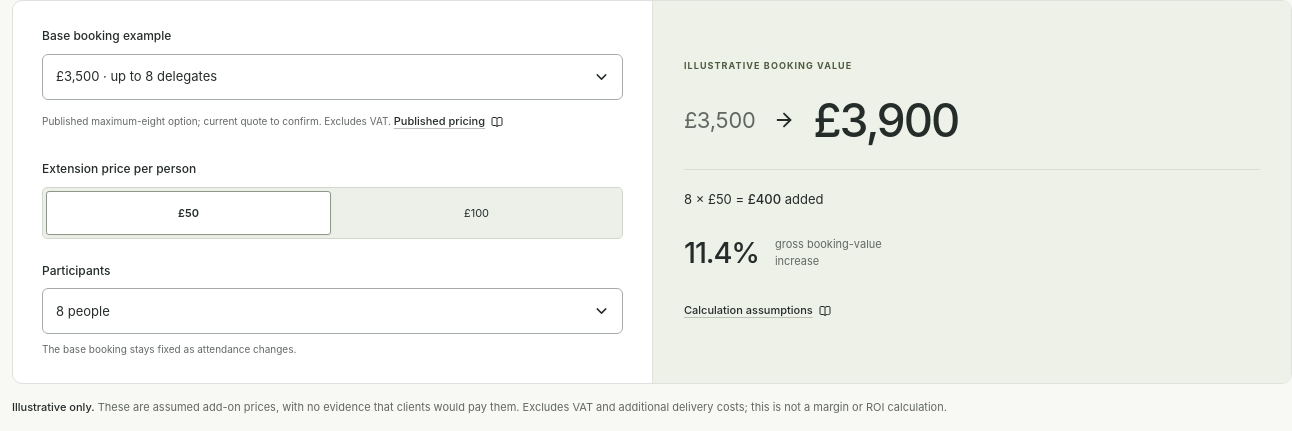
Test case: retains the published-tariff qualification when booking assumptions change
Select "£3,750 · assumed 8 attendees" in the dropdown labelled "Base booking example": (332, 77) [42, 54, 623, 100]
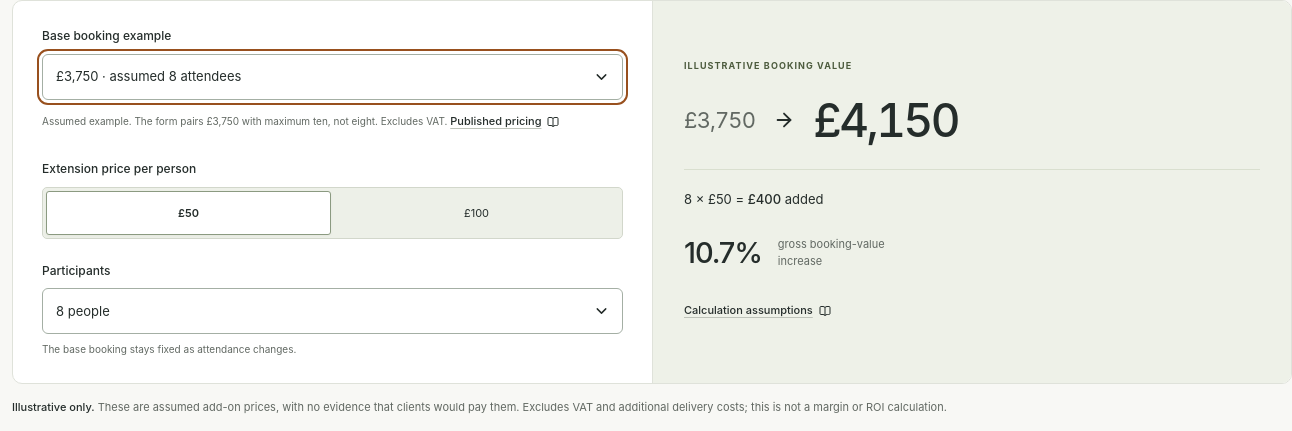
Click the button "£100": (476, 213) [334, 191, 619, 235]
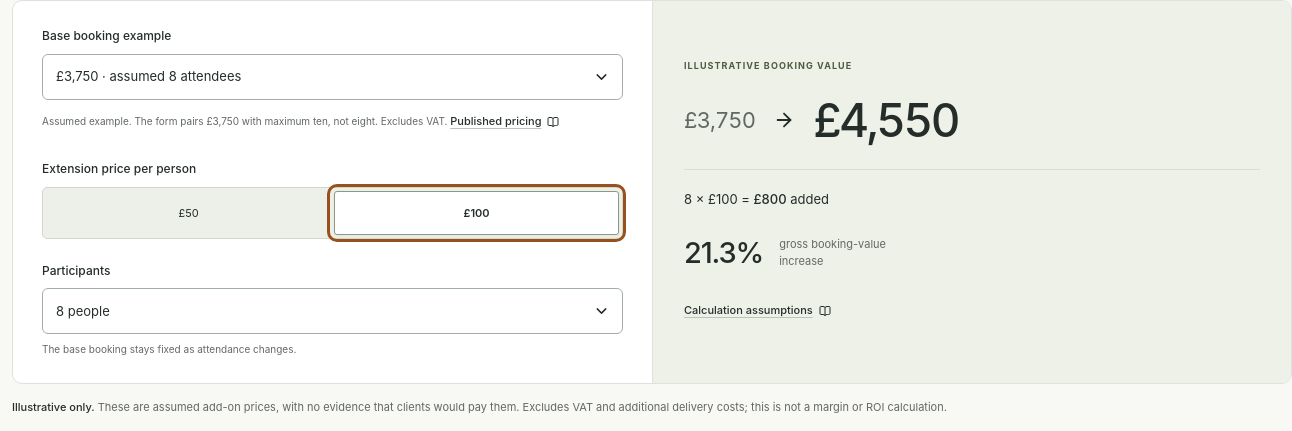
Now the text "pairs £3,750 with maximum ten" is shown, box [42, 115, 378, 127]
Now the text "£4,550" is shown, box [813, 95, 958, 146]
Now the text "21.3%" is shown, box [684, 229, 763, 277]
Select "4 people" in the dropdown labelled "Participants": (332, 311) [42, 288, 623, 334]
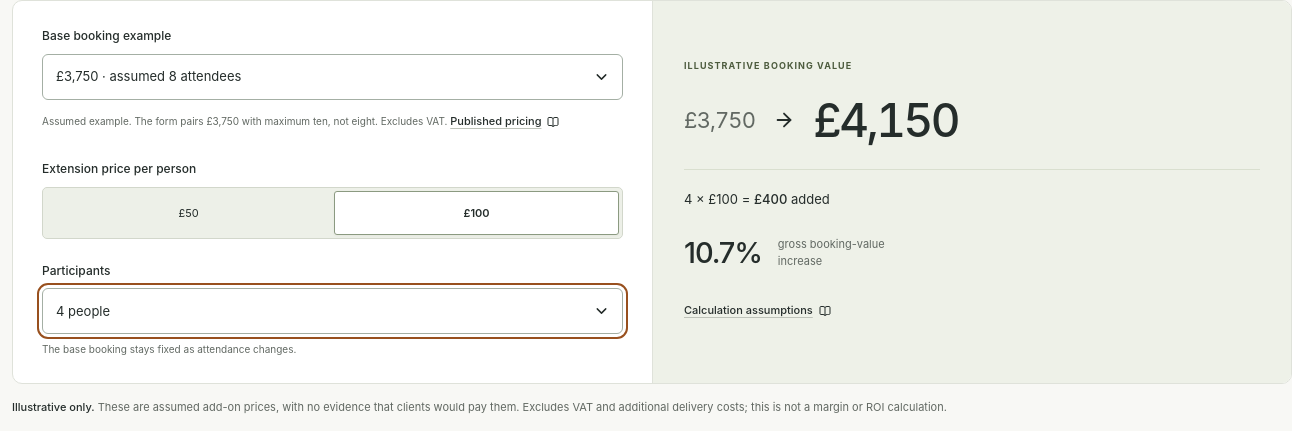
Now the text "£4,150" is shown, box [813, 95, 958, 146]
Now the text "10.7%" is shown, box [684, 229, 762, 277]
